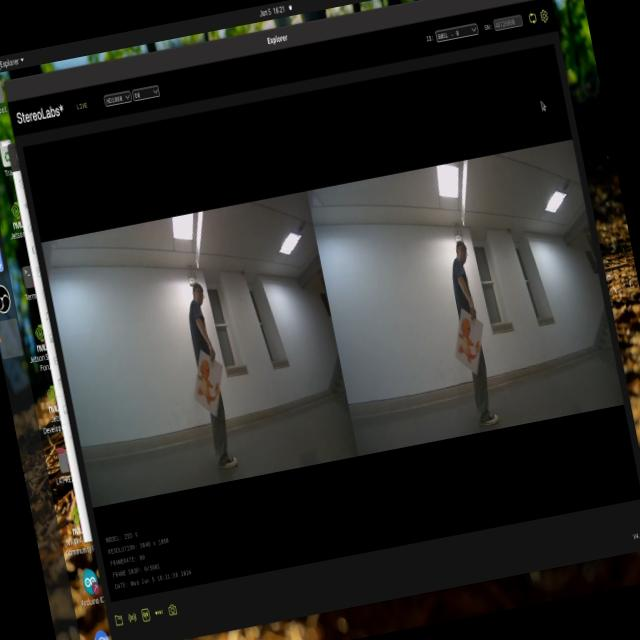red: (193, 356, 234, 416), (448, 316, 482, 374)
